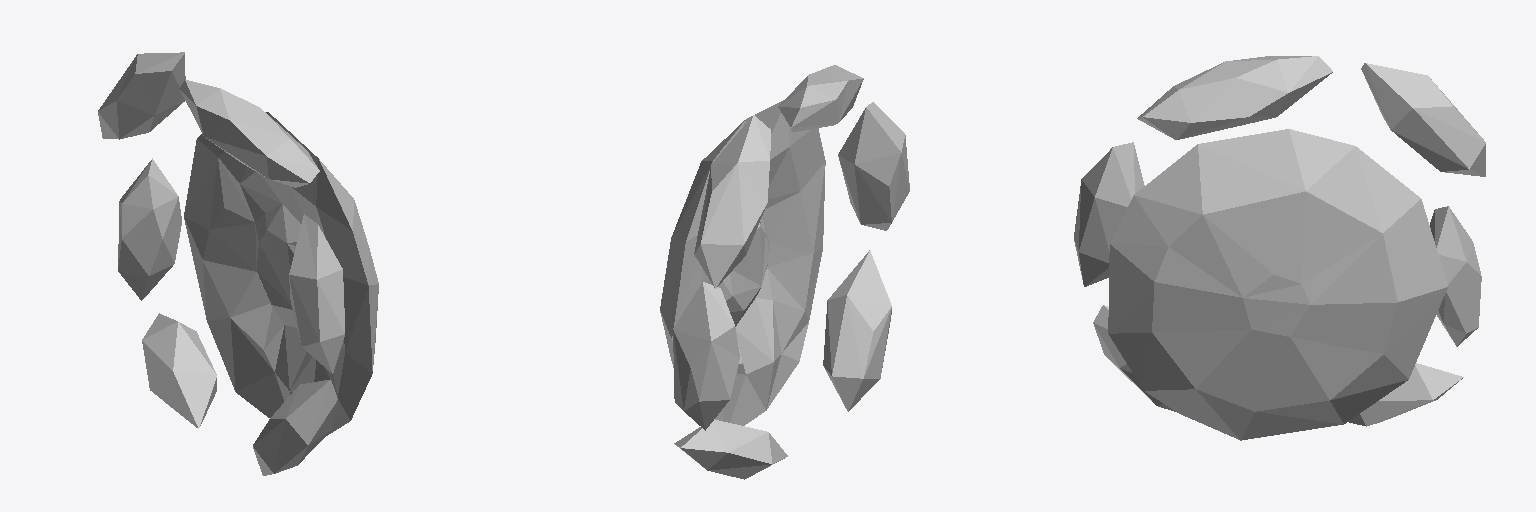
Rendered from end.obj.
The picture shows the model from 3 angles: view 1: azimuth 30°, elevation 25°; view 2: azimuth 150°, elevation 25°; view 3: azimuth 270°, elevation 25°; orthographic projection.
Parts seen in each view (by area): view 1: Low_Poly_Models:Mesh polySurface11, Low_Poly_Models:Mesh polySurface12, Low_Poly_Models:Mesh polySurface15, Low_Poly_Models:Mesh polySurface14, Low_Poly_Models:Mesh polySurface16, polySurface10 Low_Poly_Models:Mesh, Low_Poly_Models:Mesh polySurface13; view 2: Low_Poly_Models:Mesh polySurface11, polySurface10 Low_Poly_Models:Mesh, Low_Poly_Models:Mesh polySurface13, Low_Poly_Models:Mesh polySurface15, Low_Poly_Models:Mesh polySurface14, Low_Poly_Models:Mesh polySurface16, Low_Poly_Models:Mesh polySurface12; view 3: Low_Poly_Models:Mesh polySurface11, Low_Poly_Models:Mesh polySurface12, polySurface10 Low_Poly_Models:Mesh, Low_Poly_Models:Mesh polySurface14, Low_Poly_Models:Mesh polySurface15, Low_Poly_Models:Mesh polySurface16, Low_Poly_Models:Mesh polySurface13.
Boxes of the visible parts, x1=… form: Low_Poly_Models:Mesh polySurface11: x1=184, y1=112, x2=378, y2=435; Low_Poly_Models:Mesh polySurface12: x1=179, y1=80, x2=319, y2=187; Low_Poly_Models:Mesh polySurface15: x1=118, y1=158, x2=181, y2=300; Low_Poly_Models:Mesh polySurface14: x1=289, y1=214, x2=344, y2=373; Low_Poly_Models:Mesh polySurface16: x1=142, y1=313, x2=216, y2=428; polySurface10 Low_Poly_Models:Mesh: x1=98, y1=52, x2=185, y2=139; Low_Poly_Models:Mesh polySurface13: x1=253, y1=379, x2=337, y2=475; Low_Poly_Models:Mesh polySurface11: x1=660, y1=100, x2=825, y2=425; polySurface10 Low_Poly_Models:Mesh: x1=694, y1=115, x2=770, y2=288; Low_Poly_Models:Mesh polySurface13: x1=823, y1=250, x2=891, y2=411; Low_Poly_Models:Mesh polySurface15: x1=673, y1=282, x2=739, y2=430; Low_Poly_Models:Mesh polySurface14: x1=838, y1=102, x2=909, y2=230; Low_Poly_Models:Mesh polySurface16: x1=674, y1=419, x2=787, y2=479; Low_Poly_Models:Mesh polySurface12: x1=778, y1=65, x2=863, y2=131; Low_Poly_Models:Mesh polySurface11: x1=1108, y1=129, x2=1447, y2=440; Low_Poly_Models:Mesh polySurface12: x1=1137, y1=56, x2=1332, y2=139; polySurface10 Low_Poly_Models:Mesh: x1=1361, y1=63, x2=1485, y2=176; Low_Poly_Models:Mesh polySurface14: x1=1074, y1=142, x2=1144, y2=286; Low_Poly_Models:Mesh polySurface15: x1=1430, y1=206, x2=1481, y2=346; Low_Poly_Models:Mesh polySurface16: x1=1348, y1=363, x2=1463, y2=426; Low_Poly_Models:Mesh polySurface13: x1=1093, y1=305, x2=1174, y2=411.
Size of the model in its own units: 1.51 by 3.72 by 3.88.